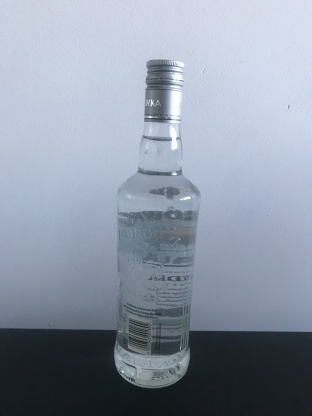nakretka: (142, 57, 186, 126)
